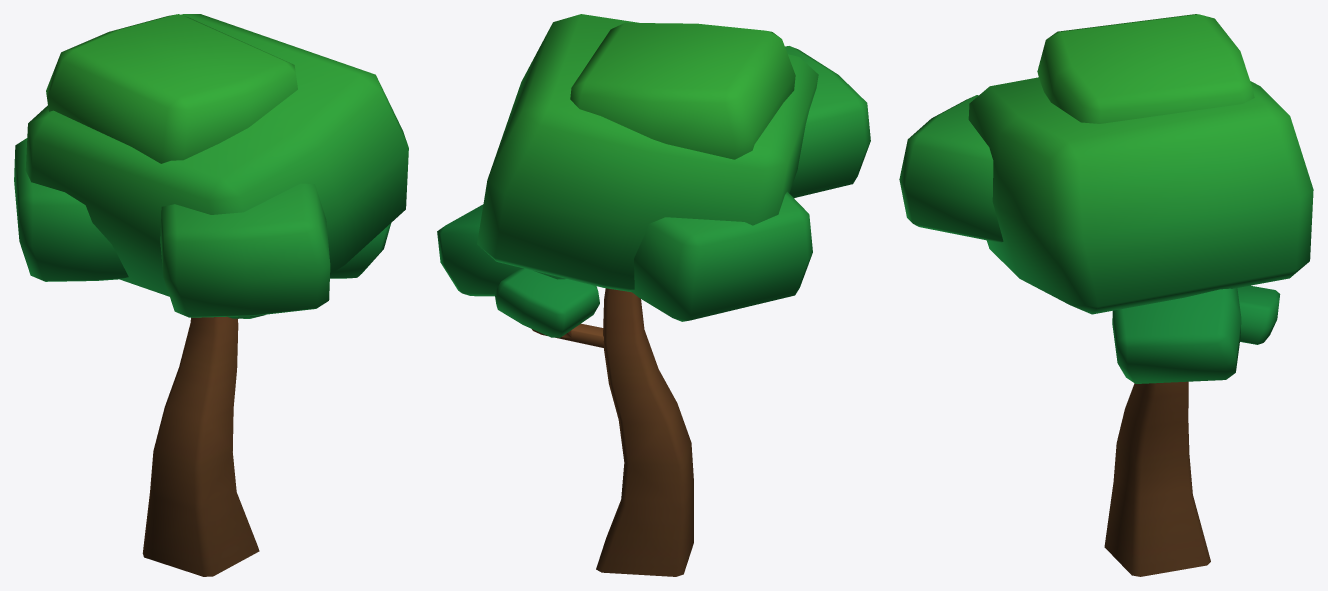
Rendered from Tree_D_6_.fbx.
The picture shows the model from 3 angles, left to right: view 1: azimuth 30°, elevation 25°; view 2: azimuth 150°, elevation 25°; view 3: azimuth 270°, elevation 25°; orthographic projection. The views are drawn at different scales.
Visible parts, largest first — view 1: Tree_D_6; view 2: Tree_D_6; view 3: Tree_D_6.
Boxes of the visible parts, bbox=[...] form: Tree_D_6: bbox=[14, 14, 408, 576]; Tree_D_6: bbox=[437, 14, 870, 576]; Tree_D_6: bbox=[899, 14, 1313, 576].
Size of the model in its own units: 286 by 399 by 305.
